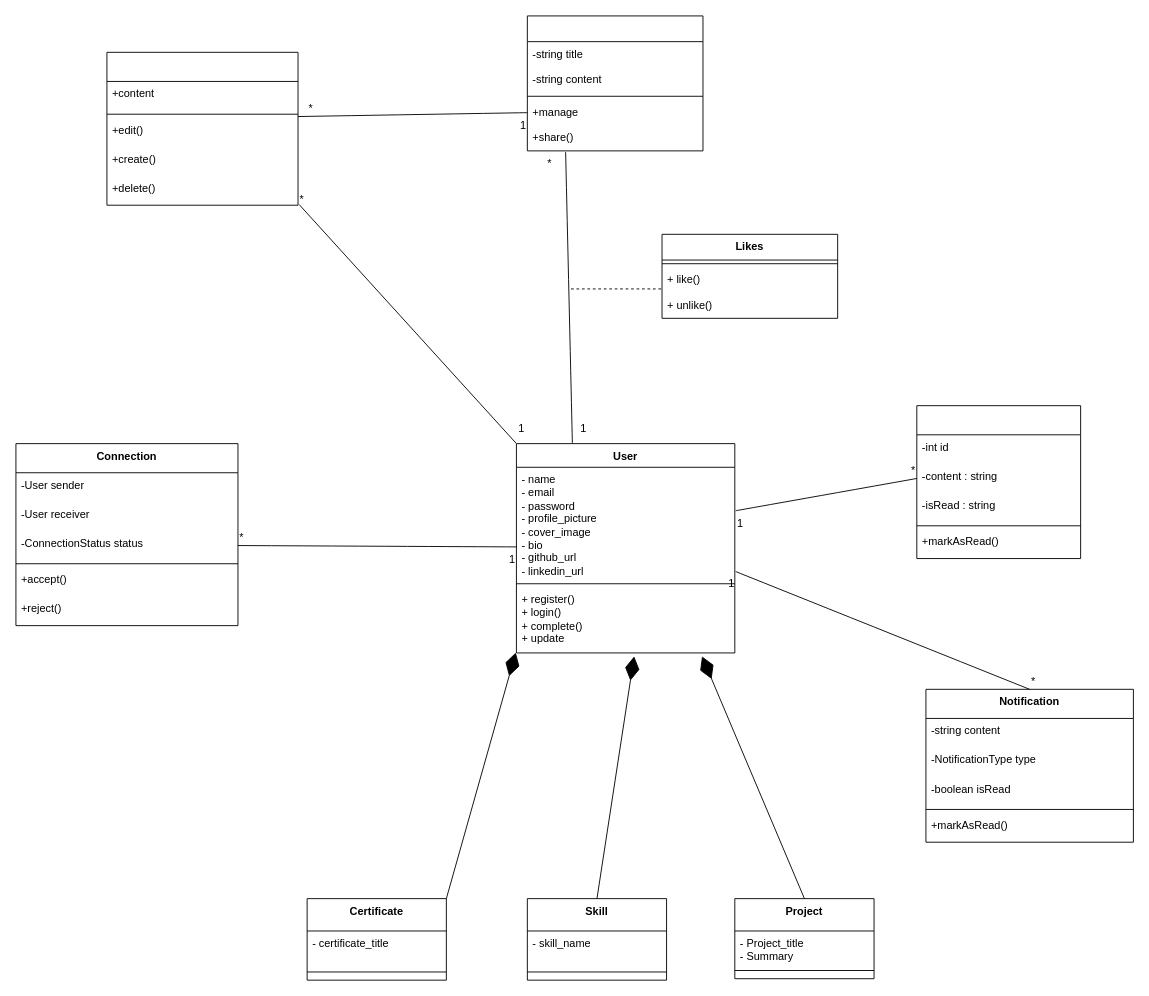
Some shapes in this 1149 by 996 pixel diagram are drawn without their labels. Each missing label, with the box of its shape:
Comment: (106, 51, 298, 205)
Message: (916, 405, 1081, 559)
Post: (526, 15, 703, 151)
